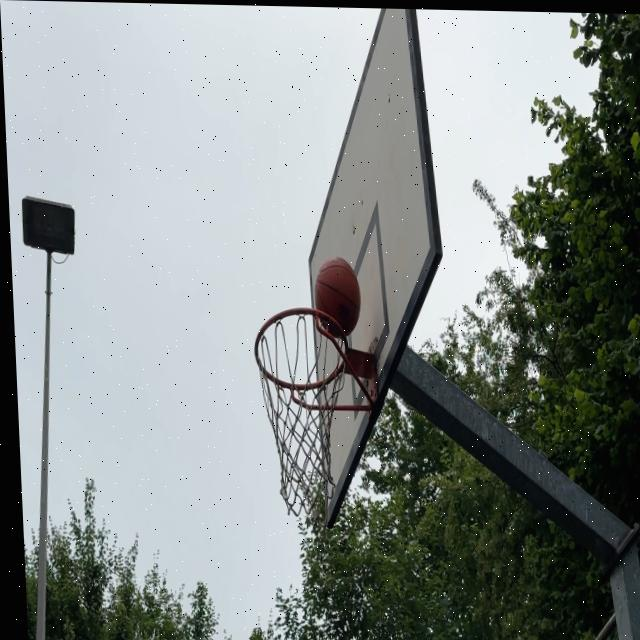rebound_hit: (312, 256, 363, 341)
